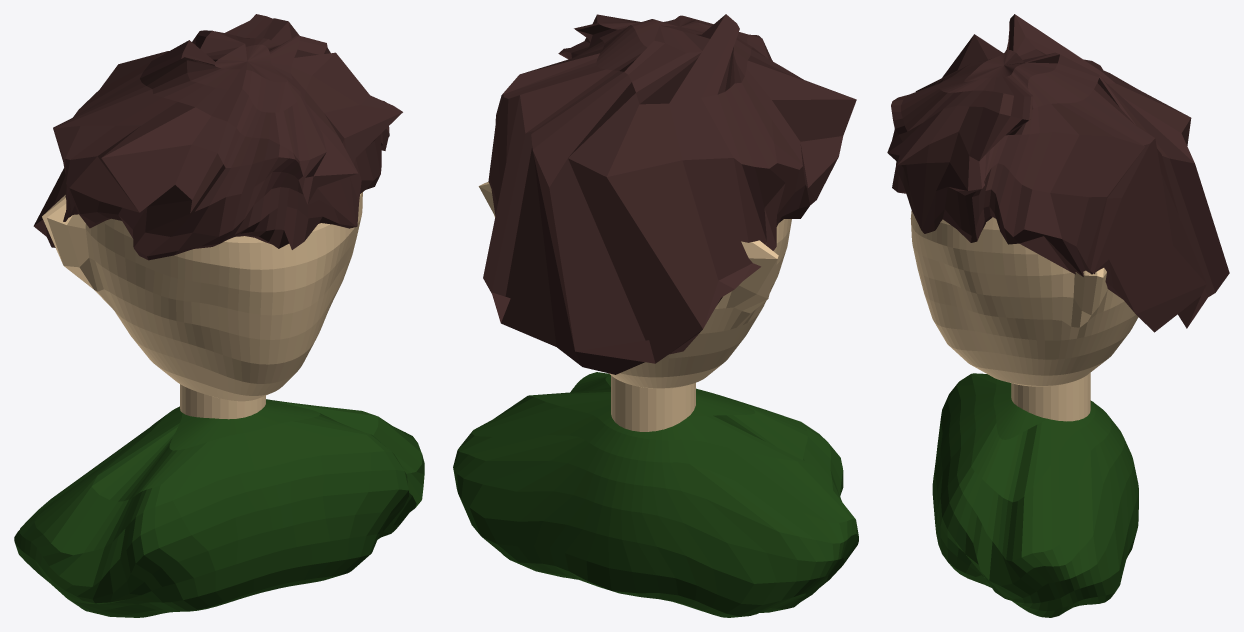
File: jackhair.fbx
3 renders of one model, left to right at view 1: azimuth 30°, elevation 25°; view 2: azimuth 150°, elevation 25°; view 3: azimuth 270°, elevation 25°, orthographic. The views are drawn at different scales.
Parts seen in each view (by area): view 1: 구체; view 2: 구체; view 3: 구체.
Boxes of the visible parts, left/top/right/bottom form: 구체: left=14, top=14, right=424, bottom=617; 구체: left=453, top=14, right=858, bottom=617; 구체: left=887, top=14, right=1229, bottom=617.
Bounding box in the file's own units: 228 × 323 × 189.
